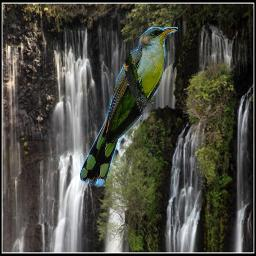Cuckoo: (80, 27, 178, 187)
